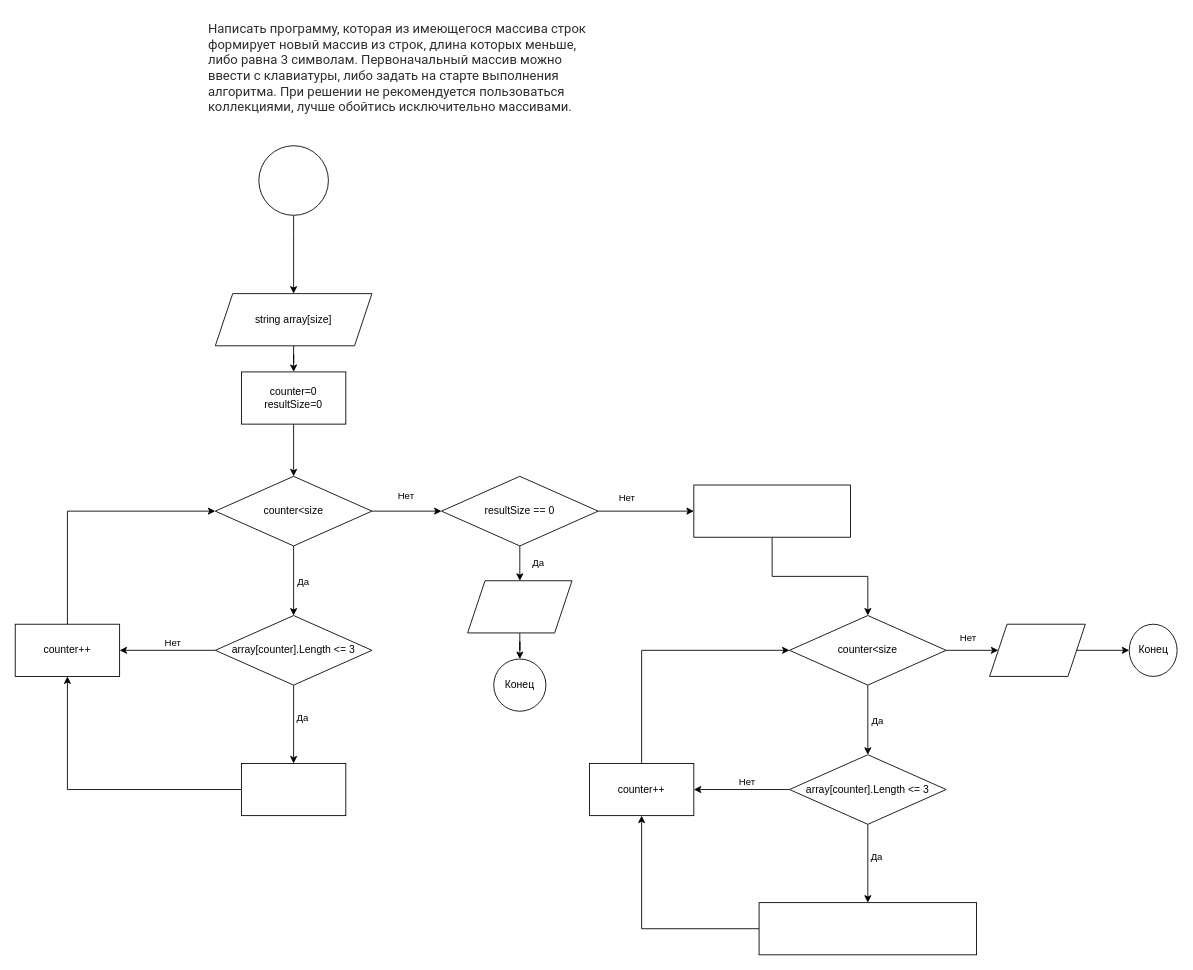
The diagram is 1193 pixels wide and 970 high, and some of its shapes have lost their labels. The shapes that lost their labels are listed below. From the top down, each one's box as (x1, y1, x2, y2) in pixels, then its label:
(258, 145, 328, 215): Начало
(693, 484, 850, 537): counter = 0 counterResult = 0 string resultArray[resultSize]
(467, 580, 572, 633): string.Empty
(989, 623, 1085, 676): resultArray[]
(241, 763, 346, 816): resultSize++ counter++
(758, 902, 977, 955): resultArray[resultCounter] = array[counter] resultCounter++
